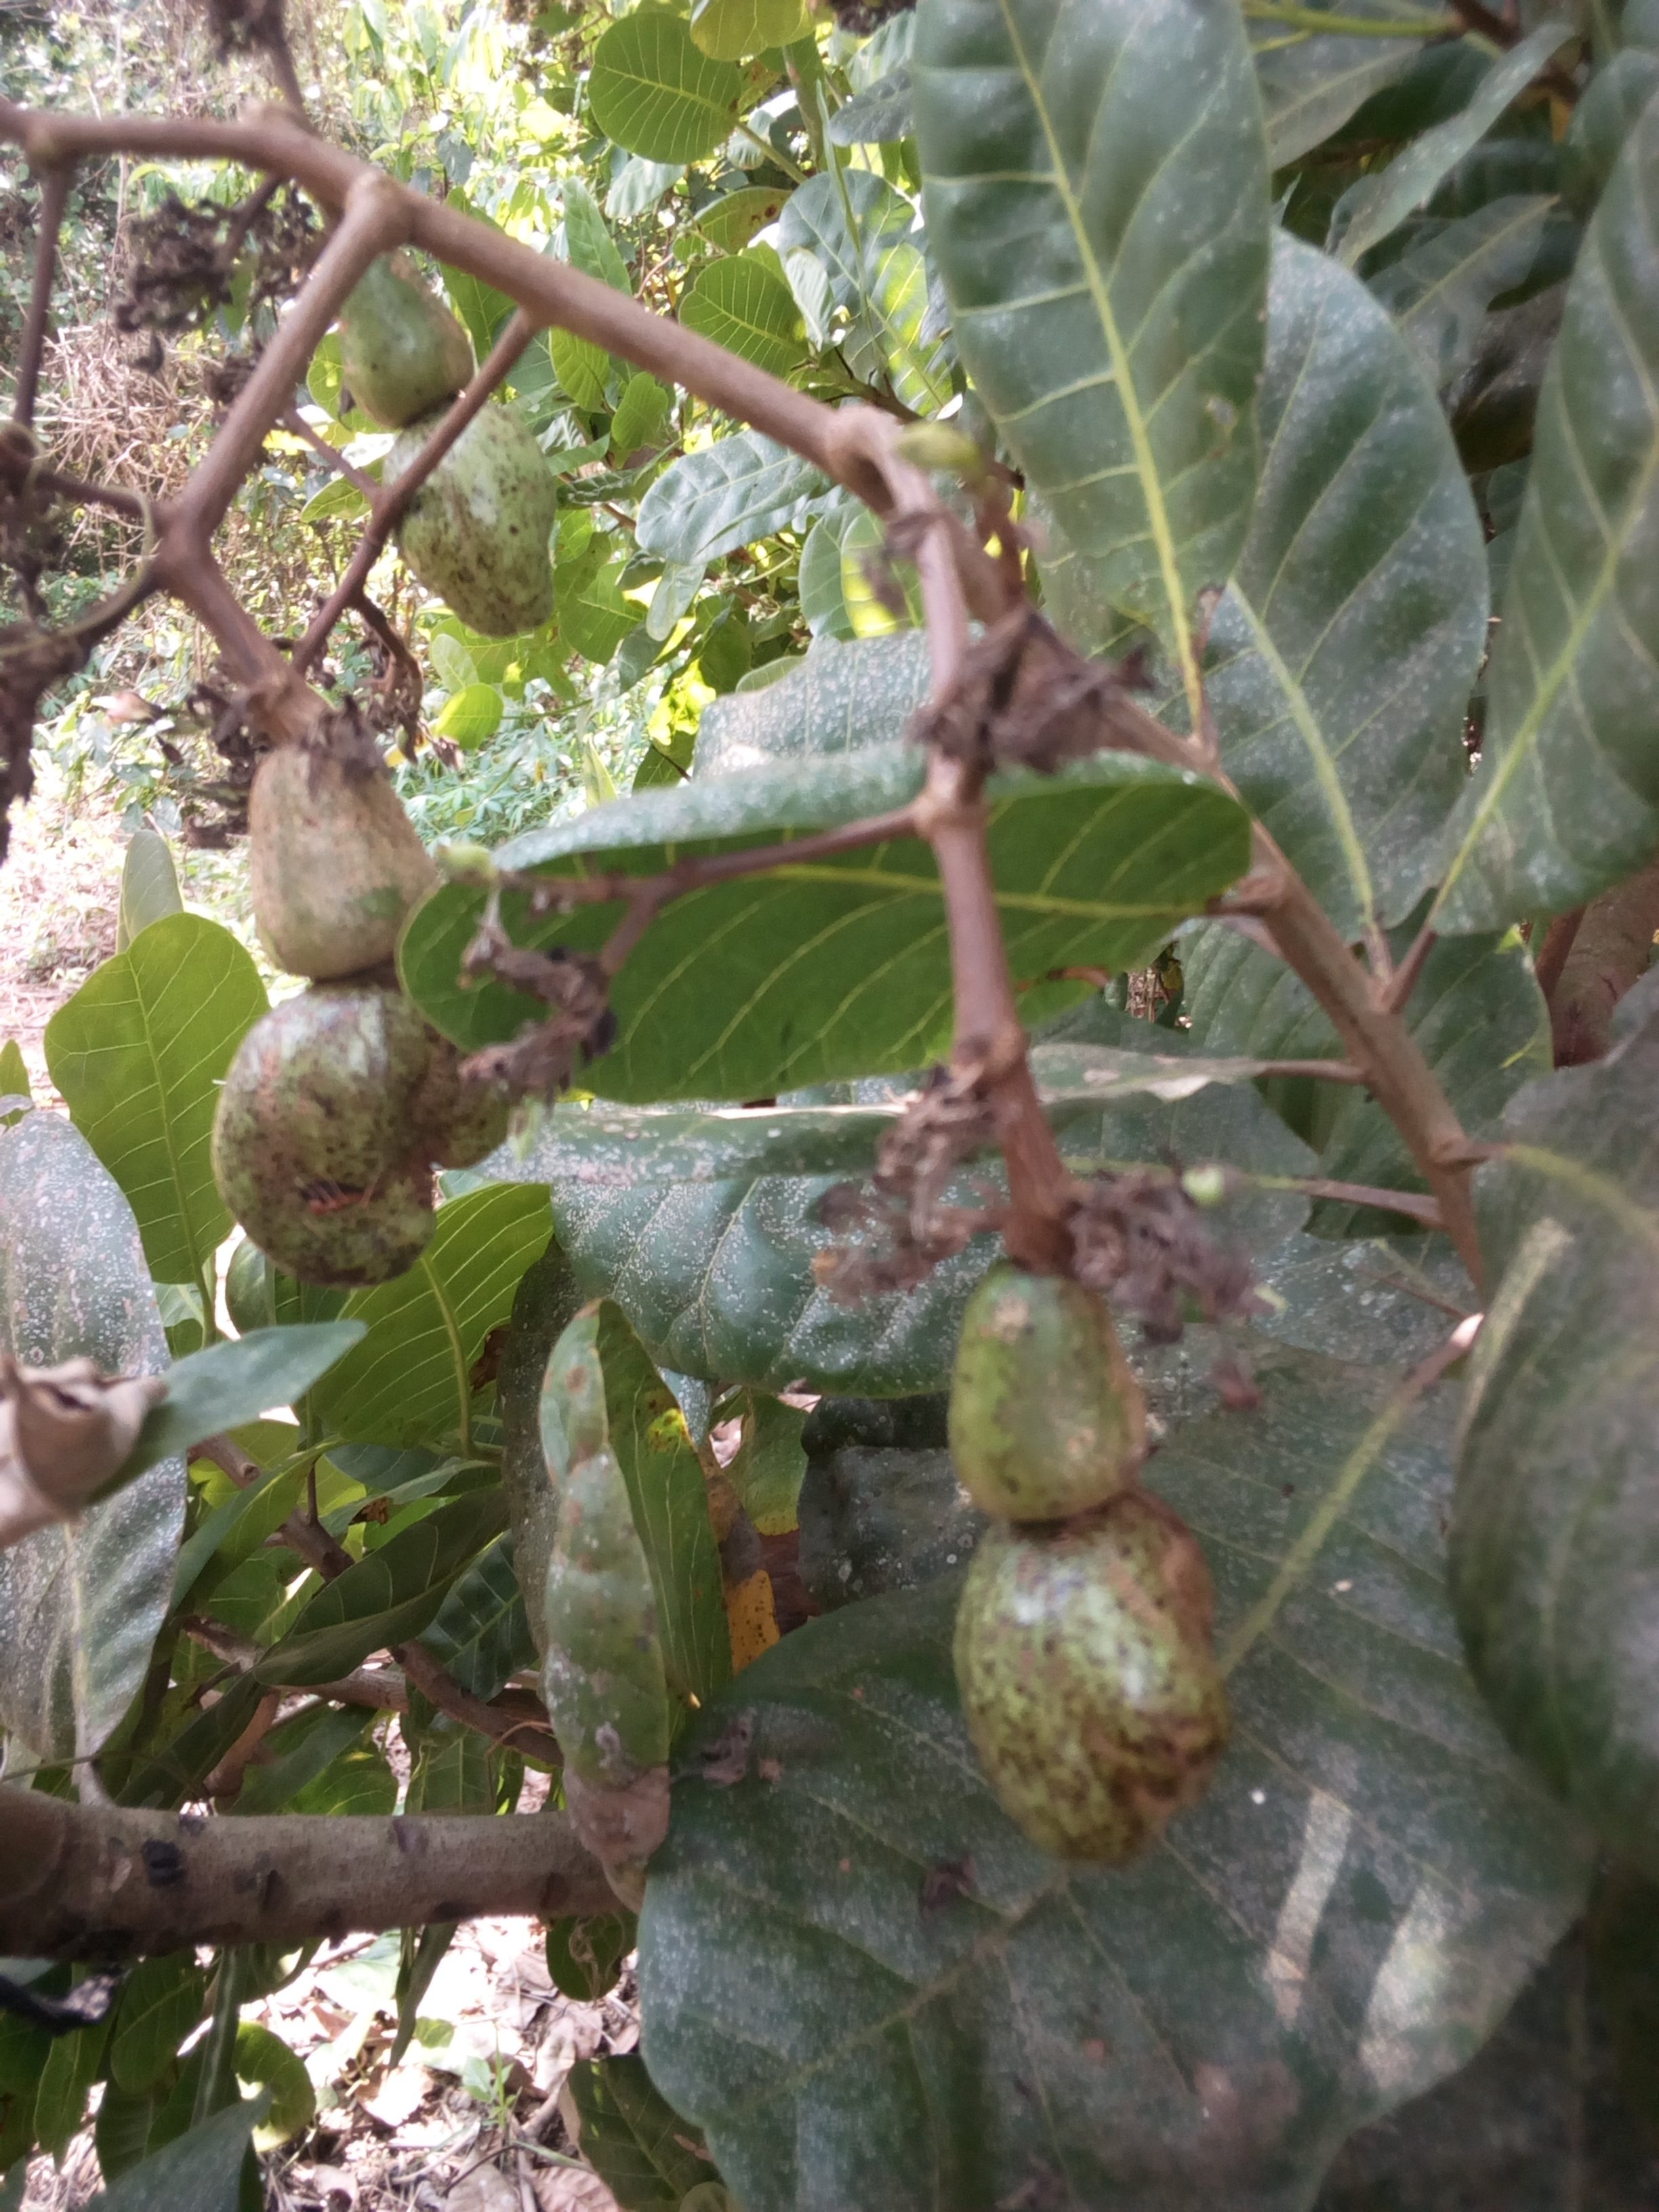Oidium: (622, 1346, 1565, 2210), (511, 1035, 1354, 1390), (1168, 199, 1490, 960), (3, 1082, 298, 1818), (1453, 82, 1652, 963), (680, 608, 1159, 838)
